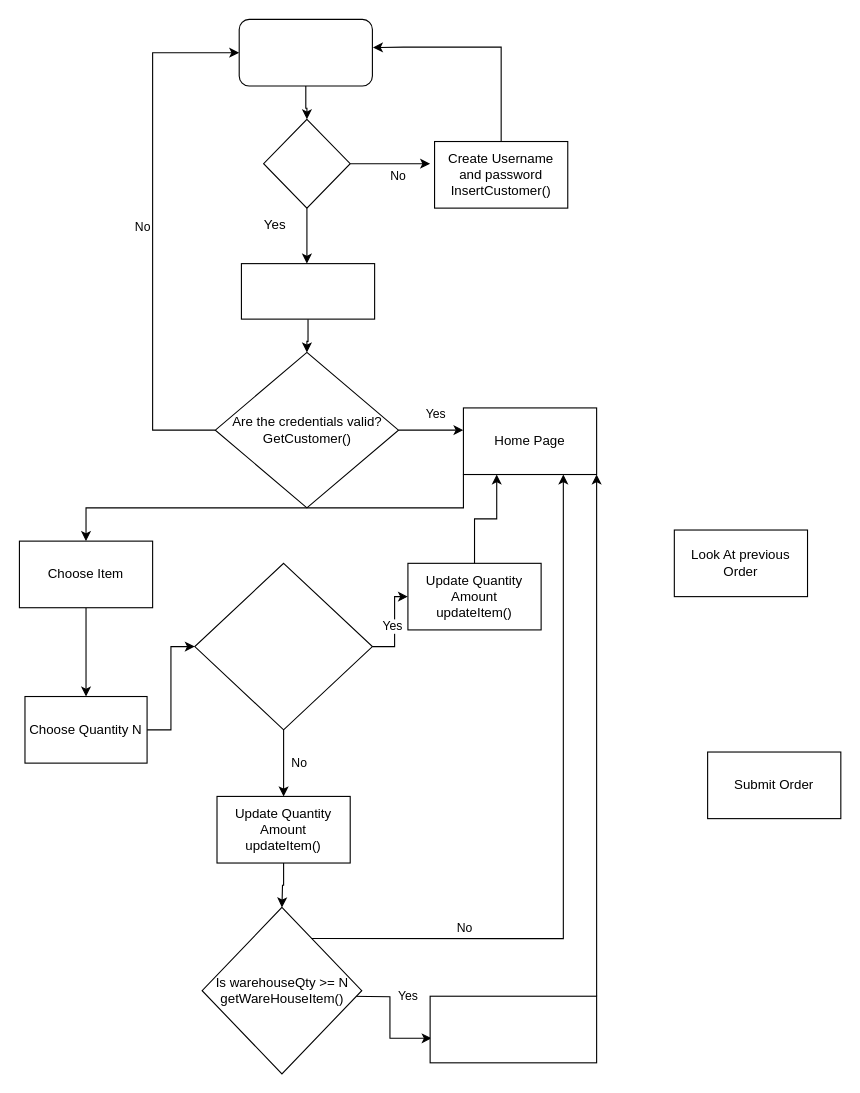
The diagram is 860 pixels wide and 1093 high, and some of its shapes have lost their labels. Here are the shapes that lost their labels. From the top down, the centre of each, then its label:
At pixel 305 52: "Login page".
At pixel 306 163: "Has an account?".
At pixel 307 291: "Enter Username and password".
At pixel 283 646: "Is item quantity >= N in Store? getItem()".
At pixel 513 1029: "update quantity in warehouse. updateWareHouseItem()".
